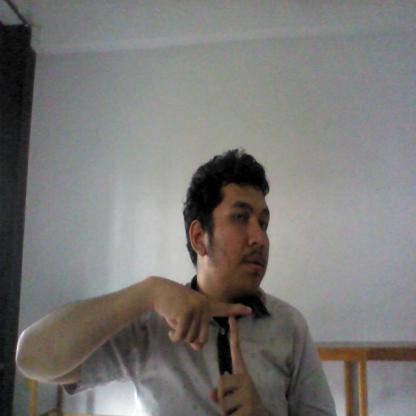T: (150, 275, 256, 416)
